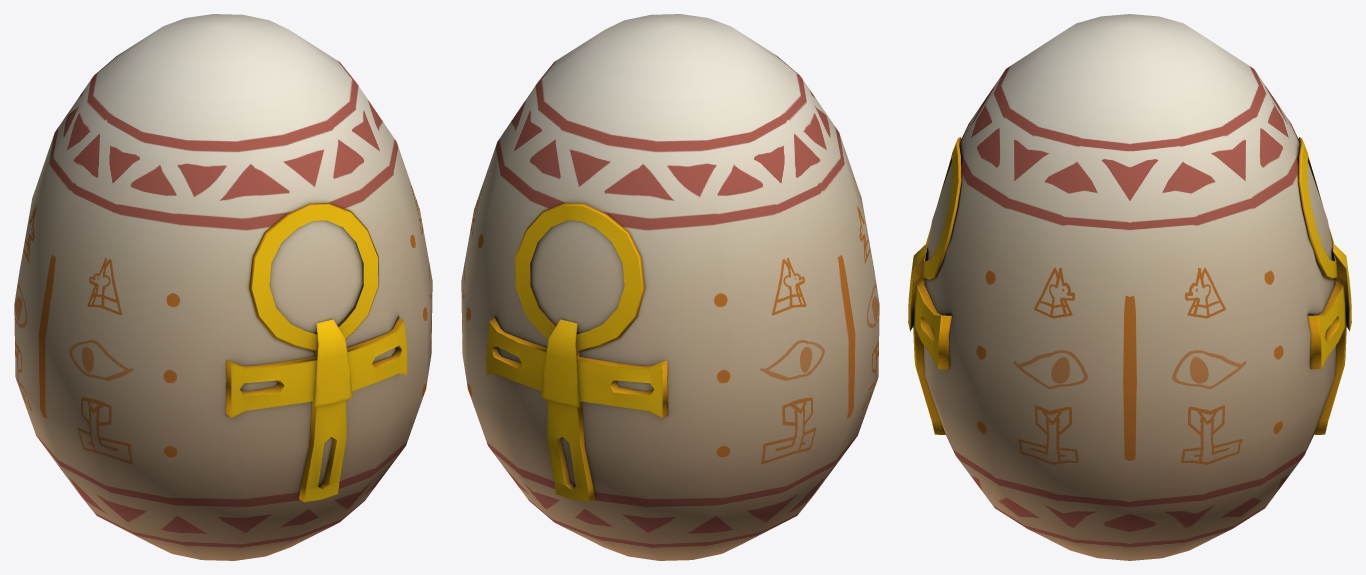
The model's file is egg1map4.fbx.
3 renders of one model, left to right at view 1: azimuth 30°, elevation 25°; view 2: azimuth 150°, elevation 25°; view 3: azimuth 270°, elevation 25°, orthographic.
Visible parts, largest first — view 1: egg1map4; view 2: egg1map4; view 3: egg1map4.
Part boxes in pixels (box(x1,y1,x2,y2)): egg1map4: box(14, 14, 432, 560); egg1map4: box(461, 14, 879, 560); egg1map4: box(908, 14, 1351, 560).
Bounding box in the file's own units: 30.77 × 41.23 × 32.39.
Materials: 1 (1 with a texture image).
